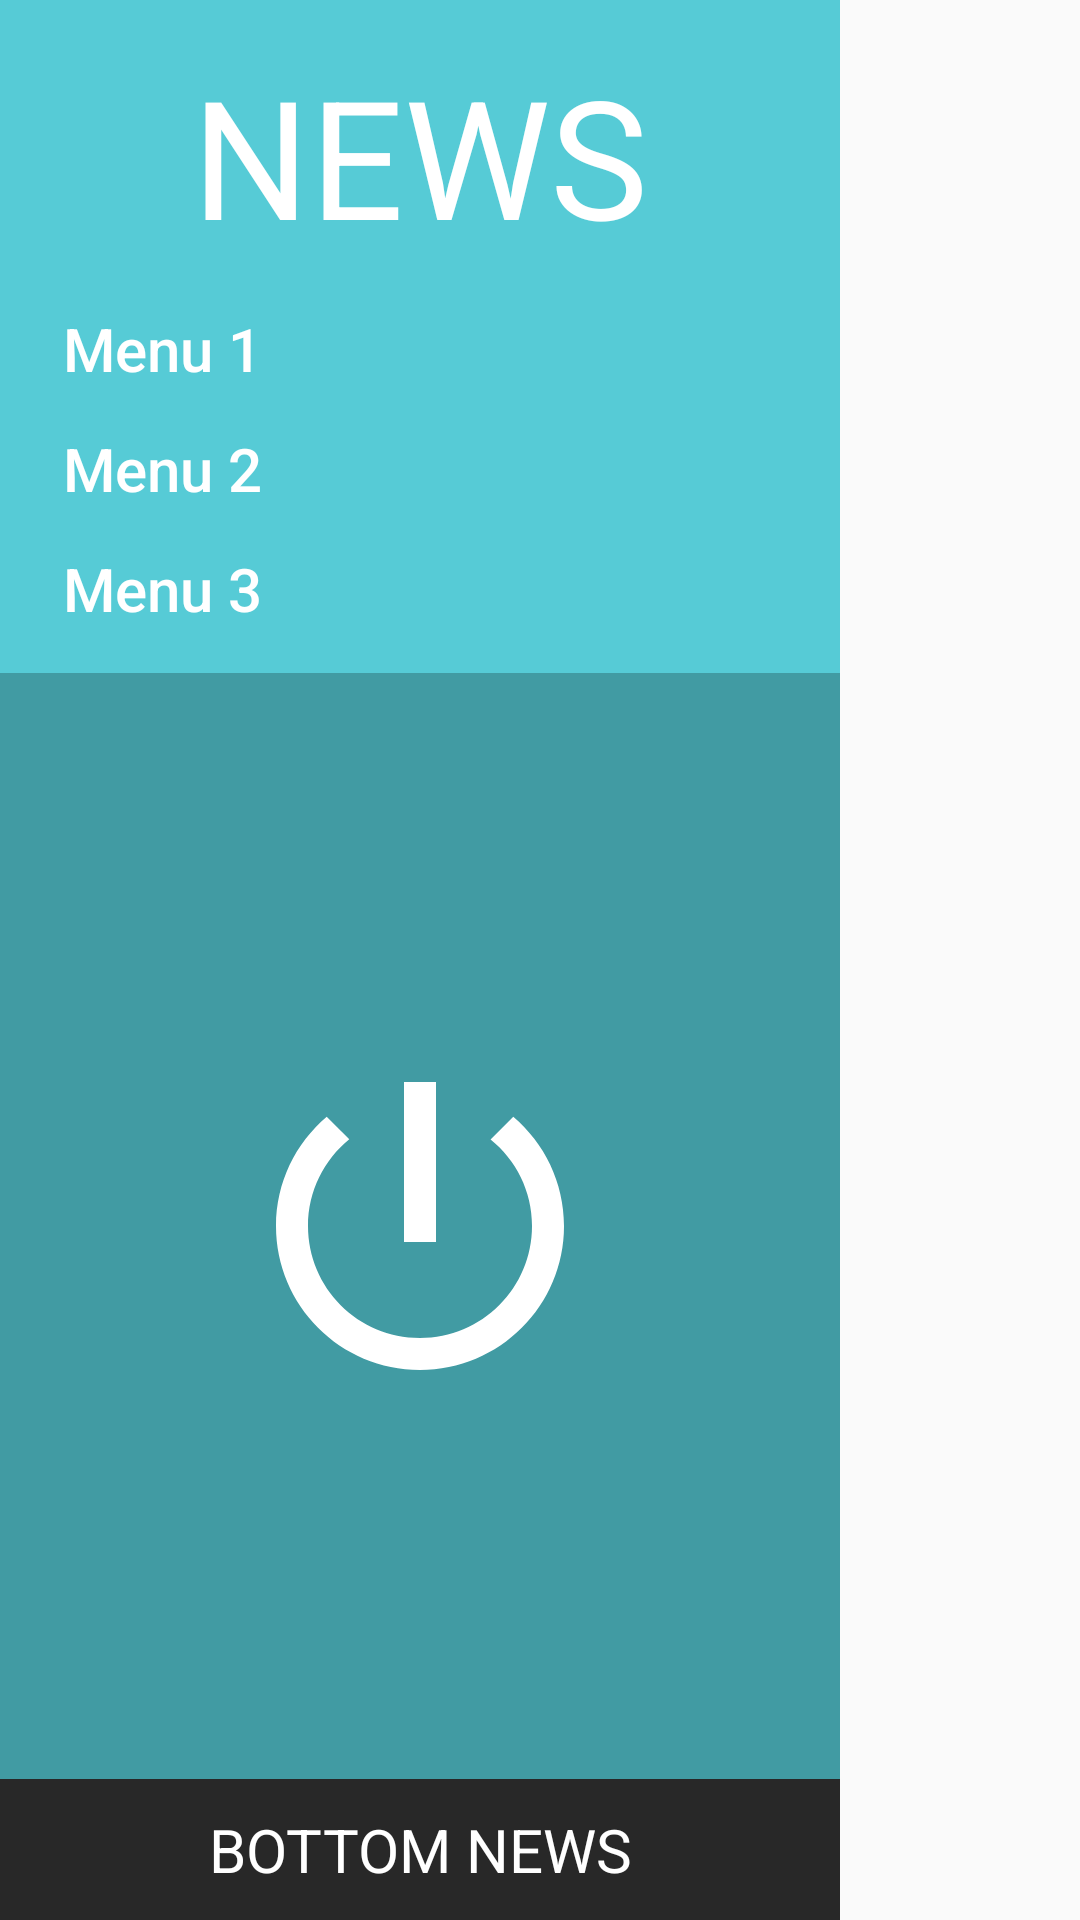

Icons on this 1080*1920 Android screen, each with its box as box=[x1, y1, x2, y2]:
power: box=[276, 1082, 564, 1370]
